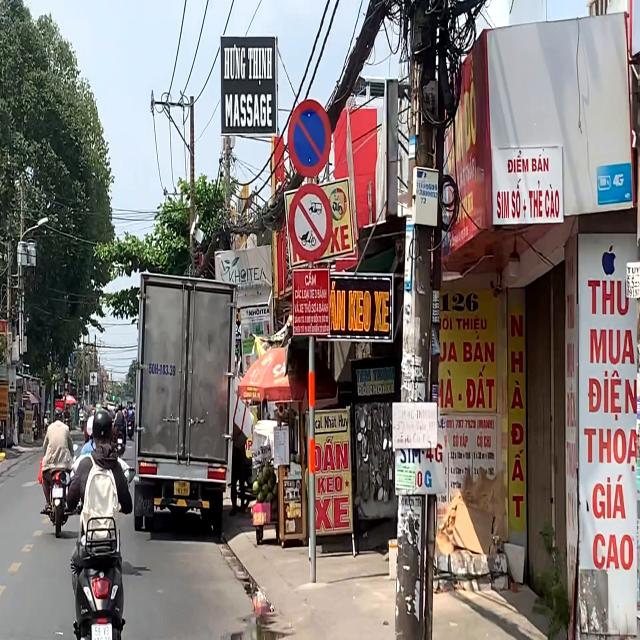P.131a: (288, 99, 332, 177)
